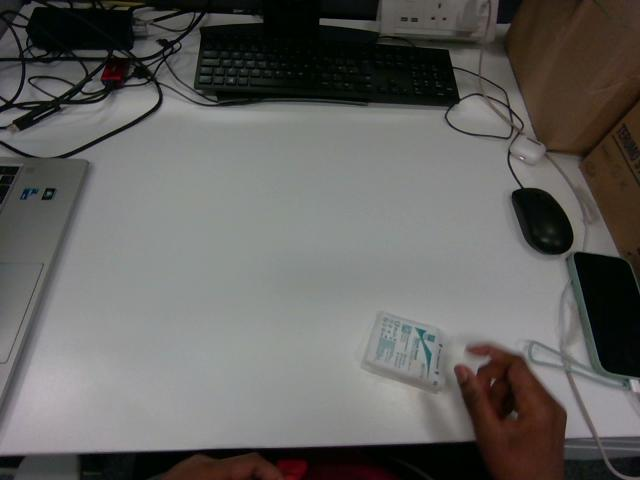gauze: (362, 312, 448, 392)
